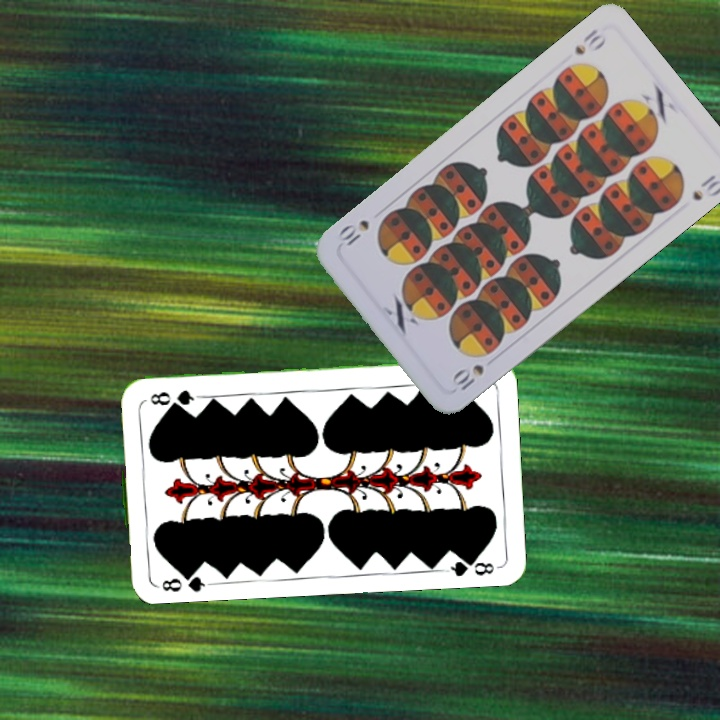G8: (152, 566, 211, 594)
S10: (446, 360, 487, 393), (570, 24, 609, 58)
